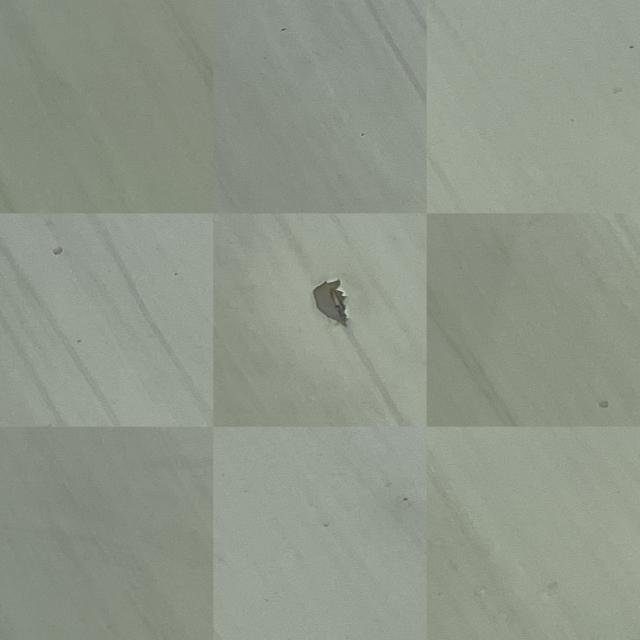crack: (304, 275, 354, 323)
